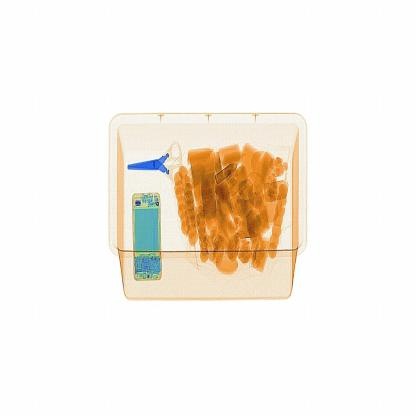gun: (126, 146, 184, 180)
